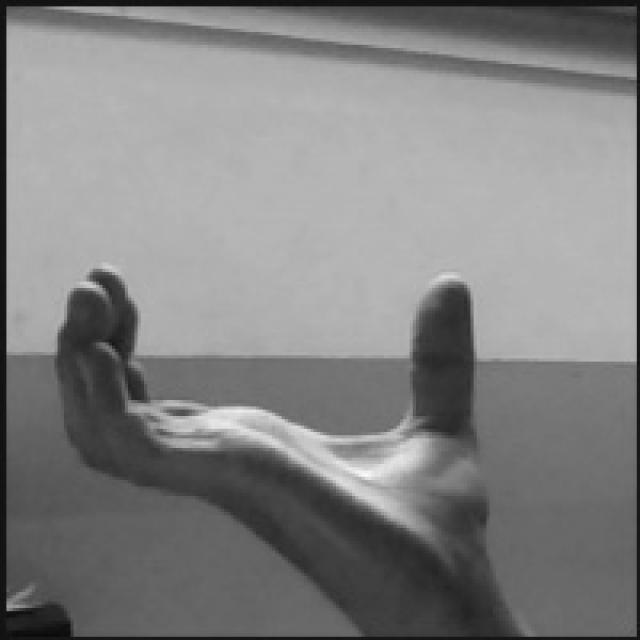space: (53, 267, 493, 575)
